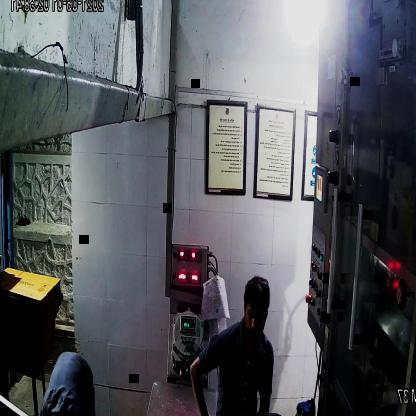no_goggles: (241, 304, 272, 326)
